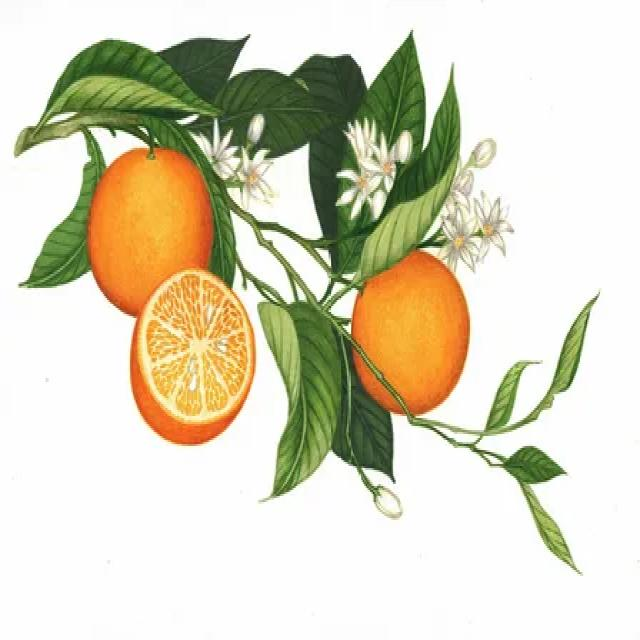orange: (82, 136, 216, 334), (347, 238, 472, 424)
